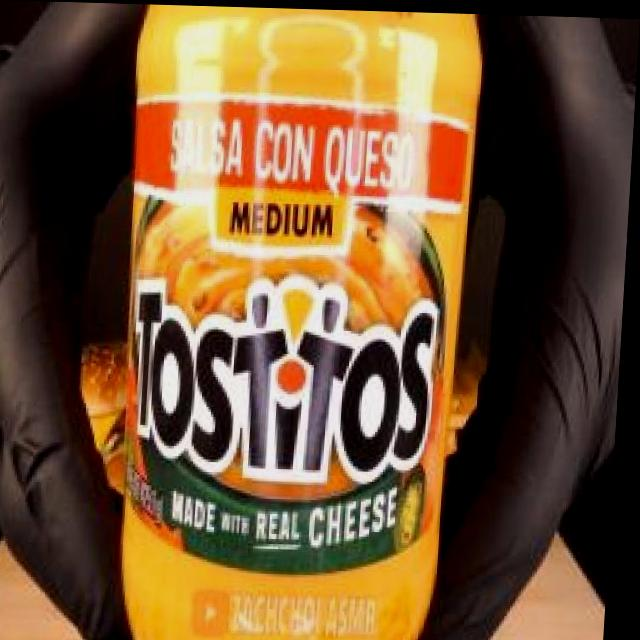tostitos cheese dip sauce: (95, 3, 488, 640)
